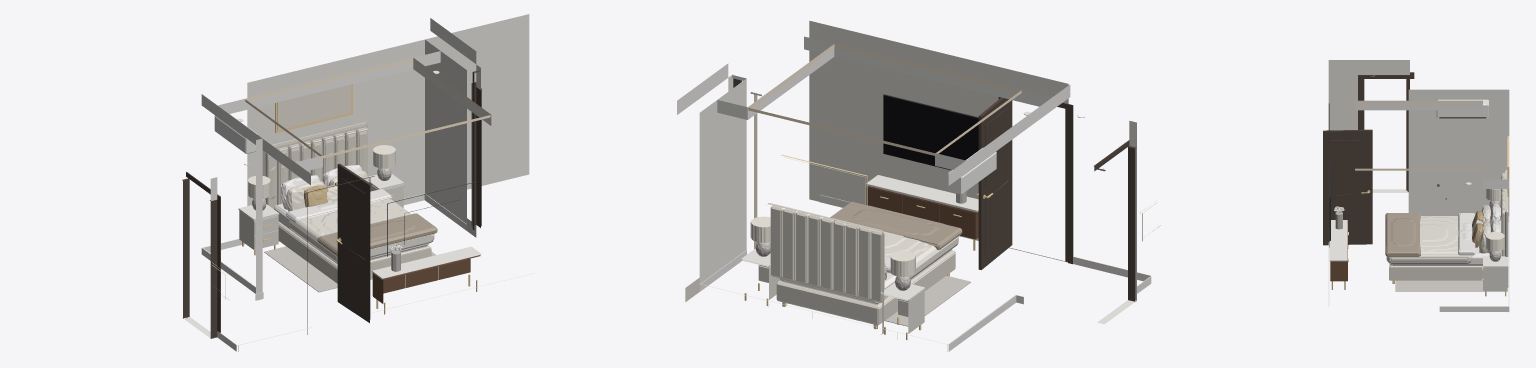
File: MASTER.glb
The picture shows the model from 3 angles, left to right: view 1: azimuth 30°, elevation 25°; view 2: azimuth 150°, elevation 25°; view 3: azimuth 270°, elevation 25°; orthographic projection. The views are drawn at different scales.
Parts seen in each view (by area): view 1: WEB_MASTER; view 2: WEB_MASTER; view 3: WEB_MASTER.
Part boxes in pixels (left/top/right/bottom): WEB_MASTER: left=182, top=14, right=534, bottom=351; WEB_MASTER: left=677, top=20, right=1160, bottom=351; WEB_MASTER: left=1323, top=60, right=1509, bottom=311.
Bounding box in the file's own units: 8.4 × 2.91 × 3.51.
